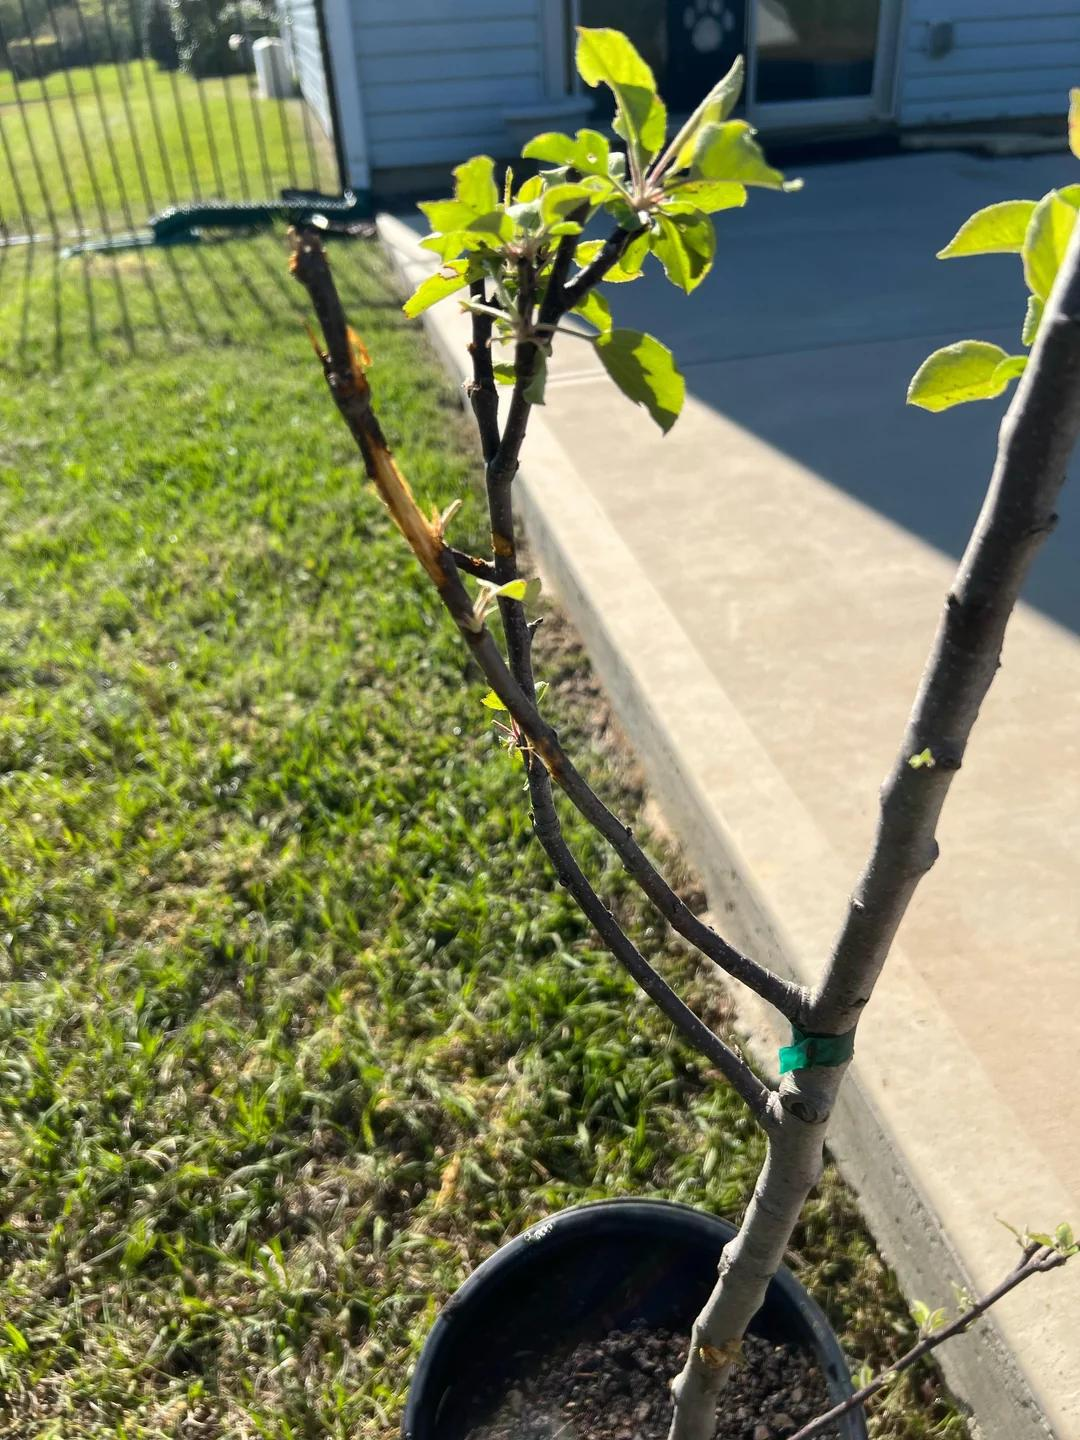mechanical damage: (290, 229, 489, 641)
